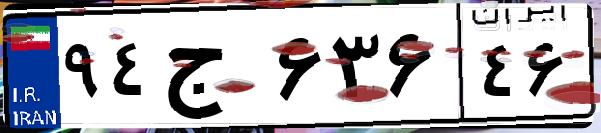3: (330, 28, 385, 110)
4: (475, 38, 525, 113), (110, 28, 158, 98)
6: (270, 28, 330, 110), (385, 28, 445, 110), (525, 38, 570, 115)
9: (57, 26, 110, 100)
ج: (158, 20, 270, 120)
